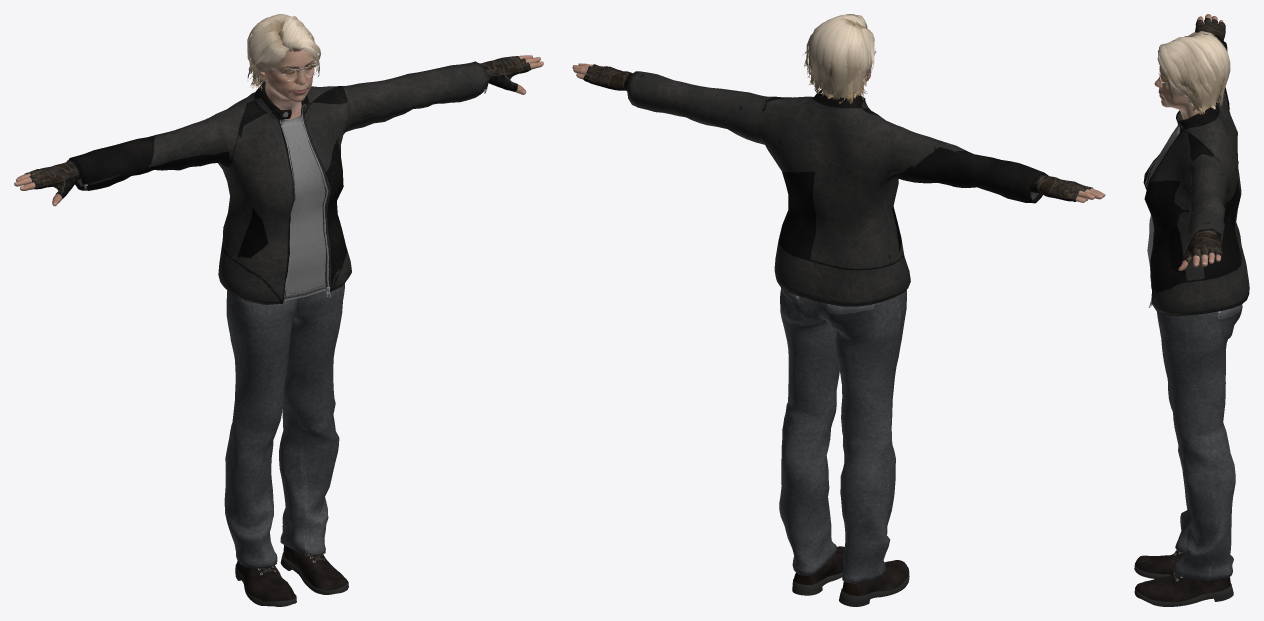
The model's file is SarahJacket-OBJ.obj.
3 views of the same model, side by side, from view 1: azimuth 30°, elevation 25°; view 2: azimuth 150°, elevation 25°; view 3: azimuth 270°, elevation 25° (orthographic). The views are drawn at different scales.
Visible parts, largest first — view 1: Tops, Bottoms, Shoes, Hair, Body, Gloves; view 2: Tops, Bottoms, Hair, Shoes, Gloves; view 3: Tops, Bottoms, Hair, Shoes, Gloves, Body.
Boxes of the visible parts, x1,y1,x2,y2 form: Tops: [68, 61, 489, 304]; Bottoms: [224, 283, 344, 567]; Shoes: [235, 545, 348, 606]; Hair: [247, 14, 320, 90]; Body: [14, 34, 543, 206]; Gloves: [24, 56, 531, 198]; Tops: [626, 71, 1048, 306]; Bottoms: [779, 288, 906, 583]; Hair: [803, 14, 874, 103]; Shoes: [792, 546, 909, 606]; Gloves: [583, 64, 1093, 201]; Tops: [1143, 35, 1249, 315]; Bottoms: [1157, 304, 1242, 580]; Hair: [1157, 31, 1230, 114]; Shoes: [1134, 550, 1233, 606]; Gloves: [1182, 18, 1225, 265]; Body: [1154, 14, 1223, 270].
Size of the model in its own units: 172 by 177 by 33.53.
Materials: 7 (7 with a texture image).
